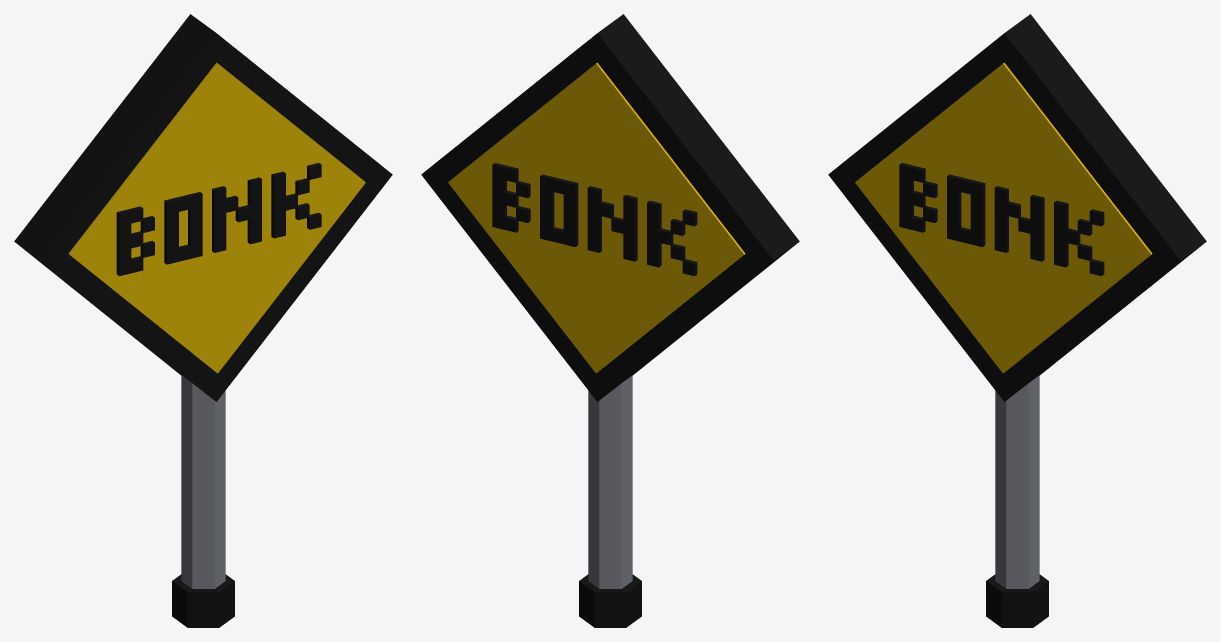
Rendered from BonkSign.fbx.
The picture shows the model from 3 angles, left to right: view 1: azimuth 30°, elevation 25°; view 2: azimuth 150°, elevation 25°; view 3: azimuth 330°, elevation 25°; orthographic projection.
Visible parts, largest first — view 1: BonkSign; view 2: BonkSign; view 3: BonkSign.
Part boxes in pixels (box(x1,y1,x2,y2)): BonkSign: box(14, 14, 392, 627); BonkSign: box(421, 14, 799, 627); BonkSign: box(828, 14, 1206, 627).
Bounding box in the file's own units: 0.6223 × 1 × 0.104.
